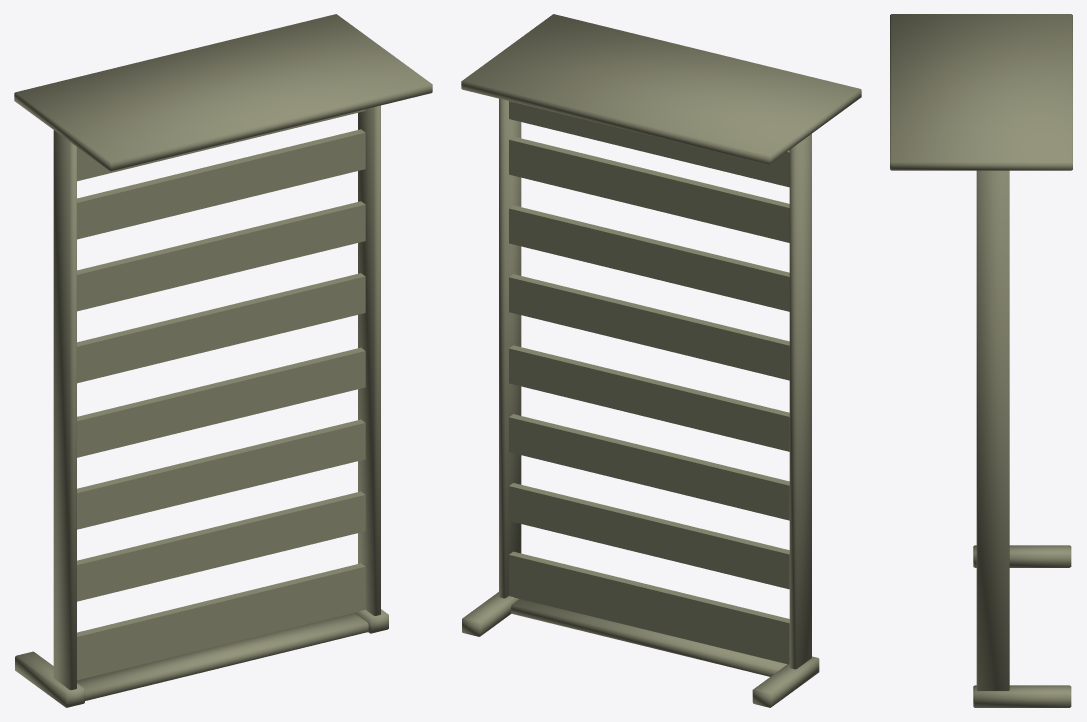
File: MeshBed_14_0.obj
3 views of the same model, side by side, from view 1: azimuth 30°, elevation 25°; view 2: azimuth 150°, elevation 25°; view 3: azimuth 270°, elevation 25° (orthographic). The views are drawn at different scales.
Parts seen in each view (by area): view 1: Bed_14; view 2: Bed_14; view 3: Bed_14.
Part boxes in pixels (left/top/right/bottom): Bed_14: left=14, top=14, right=432, bottom=707; Bed_14: left=461, top=14, right=861, bottom=707; Bed_14: left=890, top=14, right=1072, bottom=707.
Bounding box in the file's own units: 1.4 × 2.39 × 0.7244.
